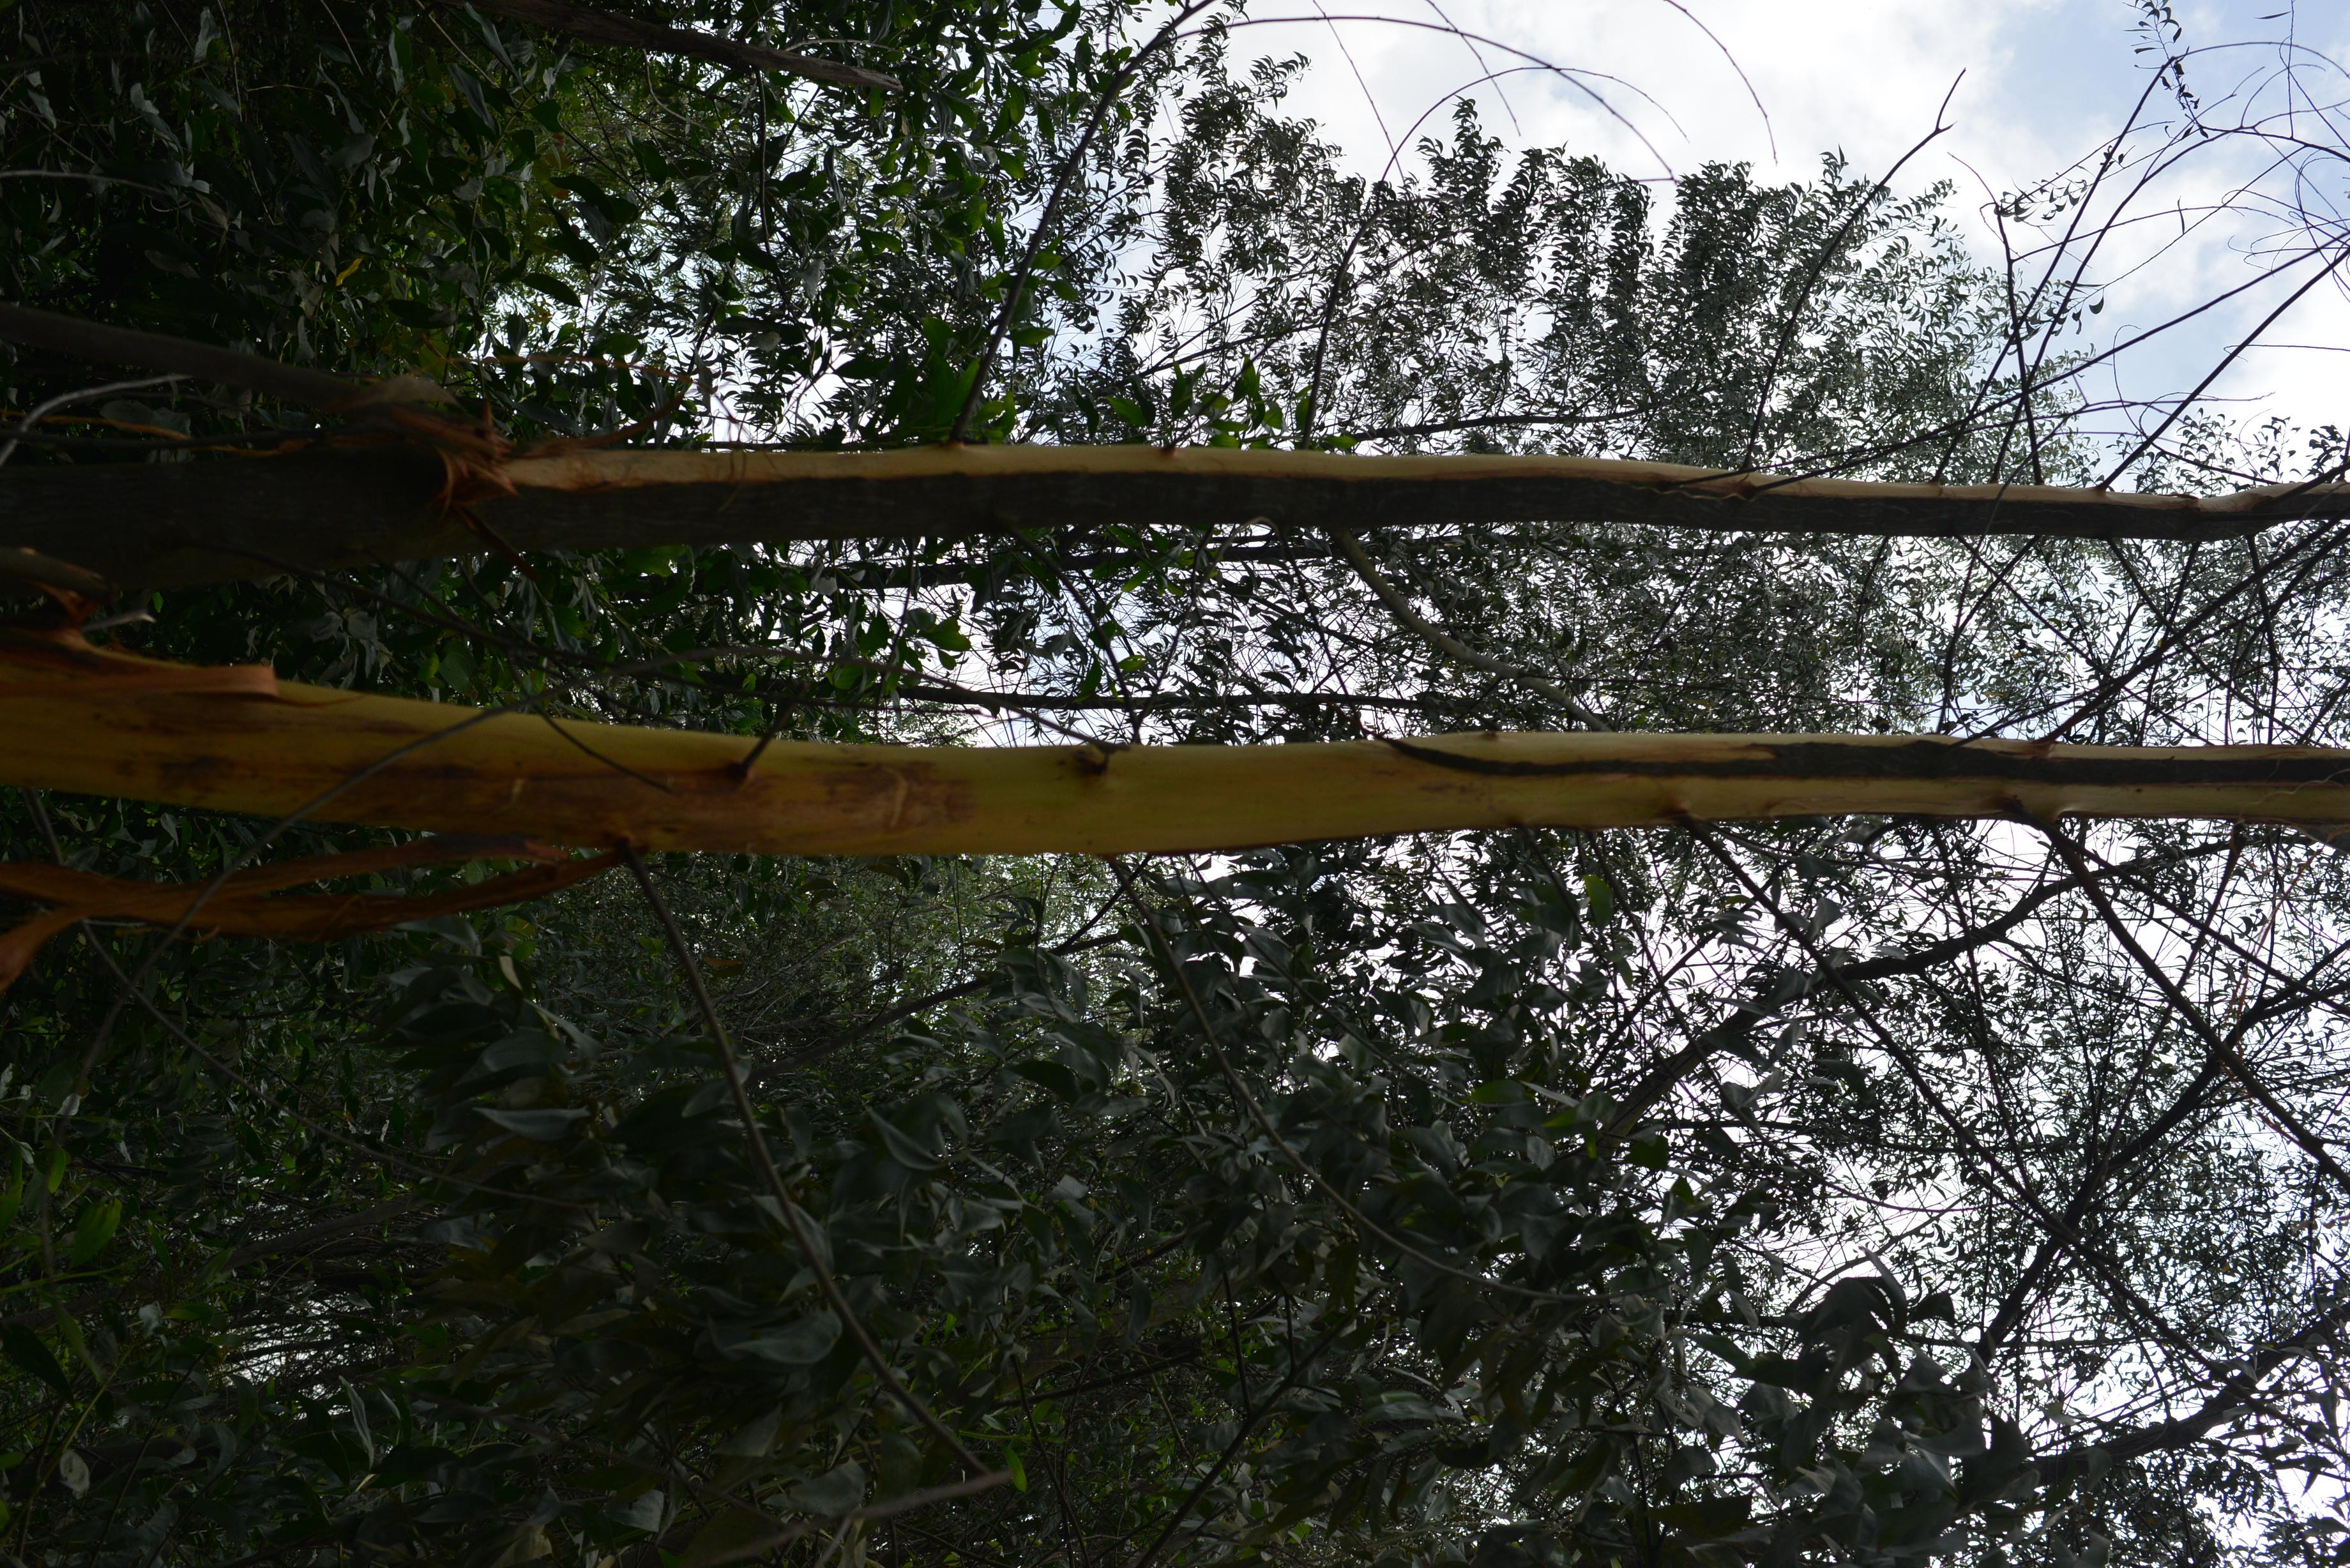Mammals Attack: (0, 649, 2350, 840), (492, 432, 2350, 535)
